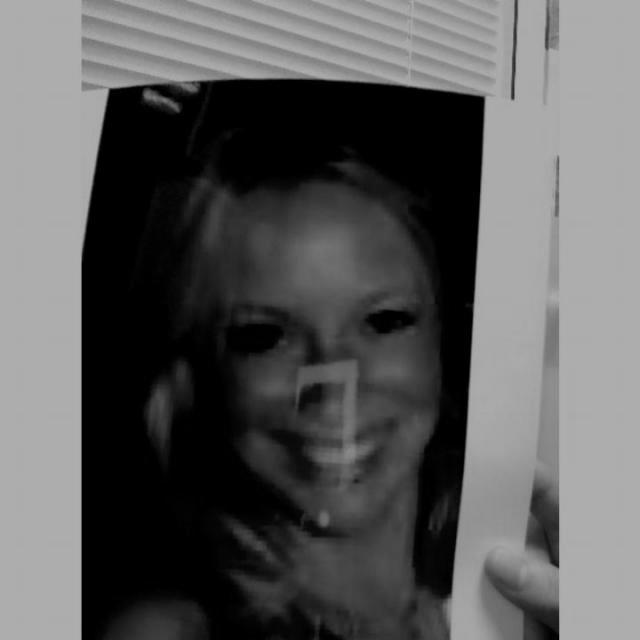fake: (81, 72, 559, 639)
